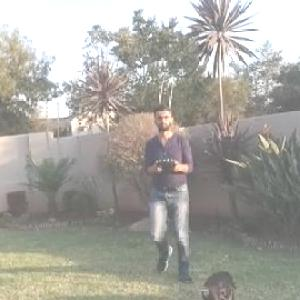follow: (141, 102, 199, 290)
null: (188, 271, 244, 299)
